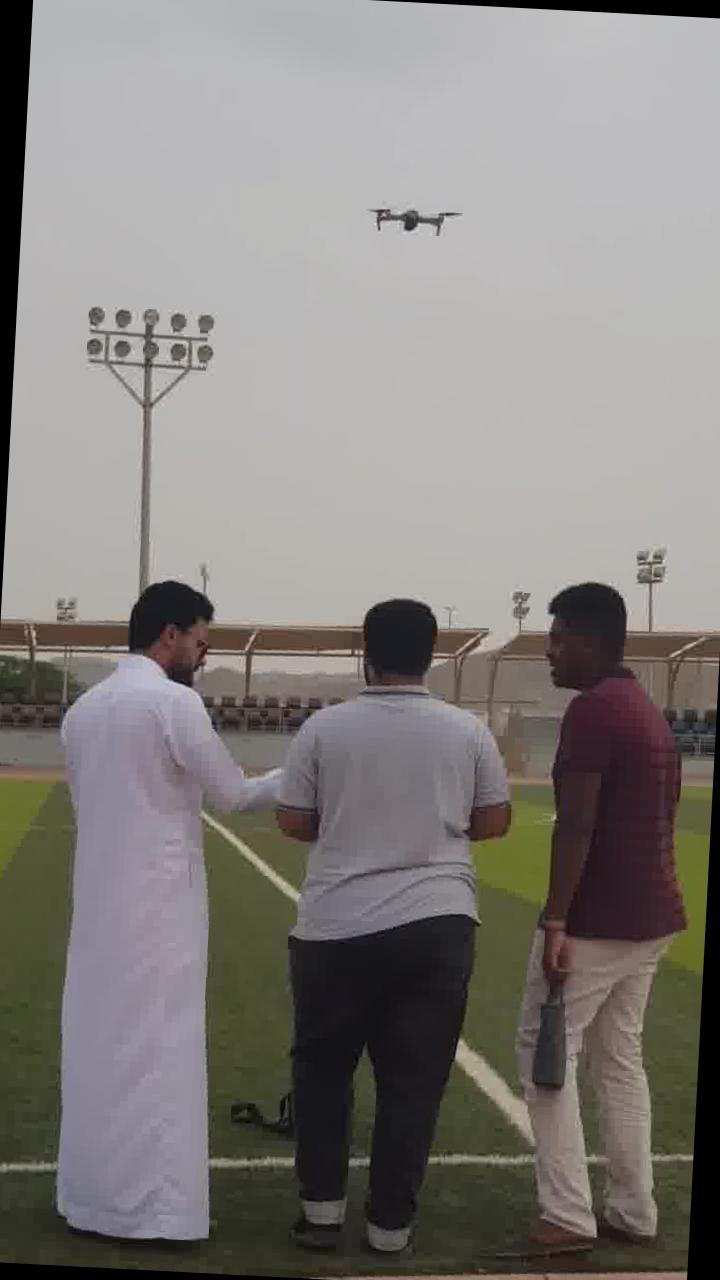drone: (359, 190, 464, 247)
